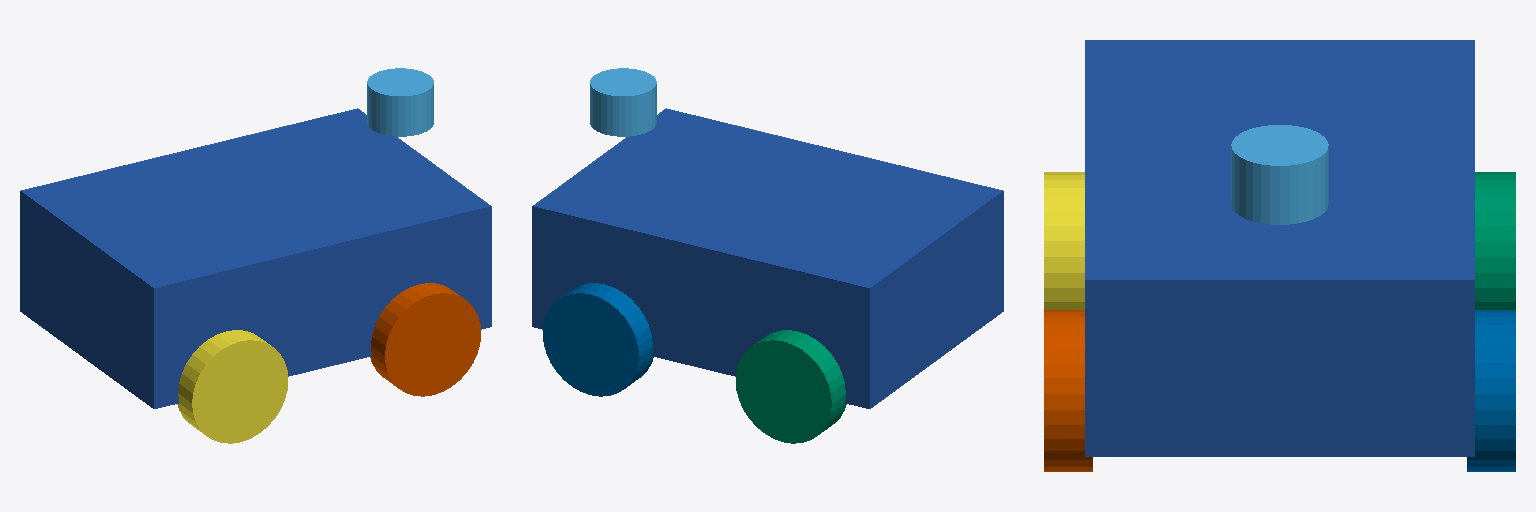
URDF robot description (hospitalbot):
<?xml version="1.0"?>
<!-- Ackermann robot matching the sim: wheelbase 0.20 m, 360deg/12 m LiDAR.
     For modern Gazebo (gz-sim / Harmonic + ros_gz, pairs with ROS 2 Humble).
     The AckermannSteering plugin consumes /cmd_vel (v, yaw-rate) and publishes
     /odom + odom->base_link TF. gz_cmd_adapter converts the controller's
     [v, steering] into that yaw-rate. LiDAR publishes to gz topic /scan
     (bridged to ROS by the launch file). Tune inertias/friction to reduce slip
     so the robot responds like the bicycle model. -->
<robot name="hospitalbot">

  <link name="base_link">
    <inertial><mass value="6.0"/><inertia ixx="0.05" iyy="0.08" izz="0.10" ixy="0" ixz="0" iyz="0"/></inertial>
    <visual><geometry><box size="0.35 0.24 0.12"/></geometry>
      <material name="body"><color rgba="0.2 0.4 0.7 1"/></material></visual>
    <collision><geometry><box size="0.35 0.24 0.12"/></geometry></collision>
  </link>

  <!-- LiDAR: forward-facing, matches LD19 (360 deg, 12 m) -->
  <link name="laser">
    <inertial><mass value="0.1"/><inertia ixx="1e-4" iyy="1e-4" izz="1e-4" ixy="0" ixz="0" iyz="0"/></inertial>
    <visual><geometry><cylinder radius="0.03" length="0.04"/></geometry></visual>
  </link>
  <joint name="laser_joint" type="fixed">
    <parent link="base_link"/><child link="laser"/><origin xyz="0.15 0 0.12" rpy="0 0 0"/>
  </joint>

  <gazebo reference="laser">
    <sensor name="lidar" type="gpu_lidar">
      <update_rate>10</update_rate>
      <topic>scan</topic>
      <gz_frame_id>laser</gz_frame_id>
      <lidar>
        <scan><horizontal>
          <samples>360</samples><resolution>1</resolution>
          <min_angle>-3.14159</min_angle><max_angle>3.14159</max_angle>
        </horizontal></scan>
        <range><min>0.10</min><max>12.0</max><resolution>0.01</resolution></range>
      </lidar>
      <always_on>1</always_on><visualize>true</visualize>
    </sensor>
  </gazebo>

  <!-- wheels (rear drive at x=-0.10, front steer at x=+0.10 -> wheelbase 0.20) -->
  <link name="rl_wheel"><inertial><mass value="0.3"/><inertia ixx="1e-3" iyy="1e-3" izz="1e-3" ixy="0" ixz="0" iyz="0"/></inertial>
    <visual><geometry><cylinder radius="0.05" length="0.03"/></geometry></visual>
    <collision><geometry><cylinder radius="0.05" length="0.03"/></geometry></collision></link>
  <link name="rr_wheel"><inertial><mass value="0.3"/><inertia ixx="1e-3" iyy="1e-3" izz="1e-3" ixy="0" ixz="0" iyz="0"/></inertial>
    <visual><geometry><cylinder radius="0.05" length="0.03"/></geometry></visual>
    <collision><geometry><cylinder radius="0.05" length="0.03"/></geometry></collision></link>
  <link name="fl_wheel"><inertial><mass value="0.3"/><inertia ixx="1e-3" iyy="1e-3" izz="1e-3" ixy="0" ixz="0" iyz="0"/></inertial>
    <visual><geometry><cylinder radius="0.05" length="0.03"/></geometry></visual>
    <collision><geometry><cylinder radius="0.05" length="0.03"/></geometry></collision></link>
  <link name="fr_wheel"><inertial><mass value="0.3"/><inertia ixx="1e-3" iyy="1e-3" izz="1e-3" ixy="0" ixz="0" iyz="0"/></inertial>
    <visual><geometry><cylinder radius="0.05" length="0.03"/></geometry></visual>
    <collision><geometry><cylinder radius="0.05" length="0.03"/></geometry></collision></link>

  <joint name="rl_joint" type="continuous"><parent link="base_link"/><child link="rl_wheel"/>
    <origin xyz="-0.10 0.13 -0.05" rpy="-1.5708 0 0"/><axis xyz="0 0 1"/></joint>
  <joint name="rr_joint" type="continuous"><parent link="base_link"/><child link="rr_wheel"/>
    <origin xyz="-0.10 -0.13 -0.05" rpy="-1.5708 0 0"/><axis xyz="0 0 1"/></joint>
  <joint name="fl_joint" type="continuous"><parent link="base_link"/><child link="fl_wheel"/>
    <origin xyz="0.10 0.13 -0.05" rpy="-1.5708 0 0"/><axis xyz="0 0 1"/></joint>
  <joint name="fr_joint" type="continuous"><parent link="base_link"/><child link="fr_wheel"/>
    <origin xyz="0.10 -0.13 -0.05" rpy="-1.5708 0 0"/><axis xyz="0 0 1"/></joint>

  <gazebo>
    <!-- Fortress (Ignition Gazebo 6) naming, matching ROS 2 Humble's official pairing. -->
    <plugin filename="ignition-gazebo-ackermann-steering-system" name="ignition::gazebo::systems::AckermannSteering">
      <topic>cmd_vel</topic>
      <odom_topic>odom</odom_topic>
      <frame_id>odom</frame_id><child_frame_id>base_link</child_frame_id>
      <left_joint>rl_joint</left_joint><right_joint>rr_joint</right_joint>
      <left_steering_joint>fl_joint</left_steering_joint><right_steering_joint>fr_joint</right_steering_joint>
      <wheel_base>0.20</wheel_base><wheel_separation>0.26</wheel_separation>
      <wheel_radius>0.05</wheel_radius>
      <min_velocity>-0.3</min_velocity><max_velocity>0.8</max_velocity>
      <min_angle>-0.5236</min_angle><max_angle>0.5236</max_angle>
      <odom_publish_frequency>50</odom_publish_frequency>
    </plugin>
  </gazebo>
</robot>

--- Facts derived from the render (not from the file) ---
Views: 3 orthographic renders of the robot side by side, from view 1: azimuth 30°, elevation 25°; view 2: azimuth 150°, elevation 25°; view 3: azimuth 270°, elevation 25°.
Model hospitalbot with 6 links and 5 joints (4 continuous, 1 fixed), rooted at base_link, posed every joint at zero.
Links seen in each view (by area): view 1: base_link, rr_wheel, fr_wheel, laser; view 2: base_link, rl_wheel, fl_wheel, laser; view 3: base_link, laser, fl_wheel, fr_wheel, rl_wheel, rr_wheel.
Boxes of the visible links, x1,y1,x2,y2 form: base_link: (20,108,491,408); rr_wheel: (177,330,287,443); fr_wheel: (370,283,480,396); laser: (367,68,433,136); base_link: (532,108,1003,408); rl_wheel: (736,330,846,443); fl_wheel: (543,283,653,396); laser: (590,68,656,136); base_link: (1085,40,1474,456); laser: (1231,125,1328,224); fl_wheel: (1467,310,1515,471); fr_wheel: (1044,310,1092,471); rl_wheel: (1475,172,1515,309); rr_wheel: (1044,172,1084,309).
Bounding box of the posed robot: 0.355 × 0.29 × 0.24 m (x, y, z).
Geometry: primitives only (box / cylinder / sphere), no mesh files.
